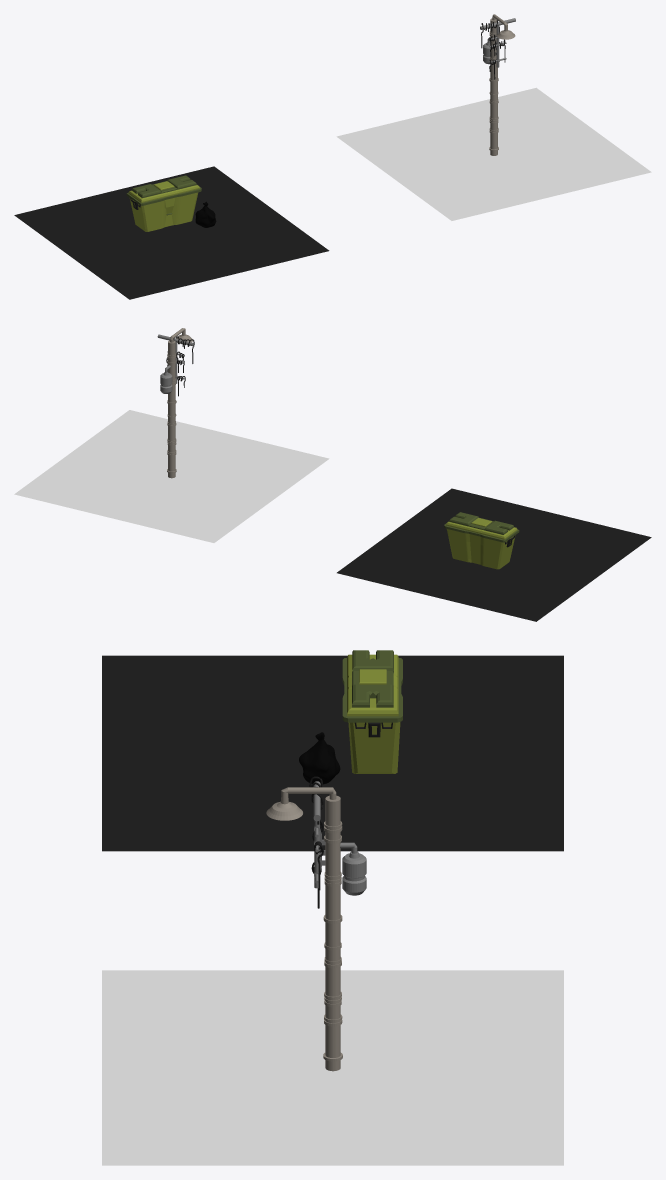
The model's file is Direk.fbx.
The picture shows the model from 3 angles, top to bottom: view 1: azimuth 30°, elevation 25°; view 2: azimuth 150°, elevation 25°; view 3: azimuth 270°, elevation 25°; orthographic projection. The views are drawn at different scales.
Parts seen in each view (by area): view 1: Plane, Plane.001, Cube, Cylinder, Cube.002, Cylinder.004, Cube.001; view 2: Plane, Plane.001, Cube, Cylinder, Cube.002, Cylinder.004, Cube.001; view 3: Plane, Plane.001, Cylinder, Cube.002, Cube, Cylinder.004, Cube.001, Icosphere.
Part boxes in pixels (x1,y1,x2,y2): Plane: (336, 87, 651, 220); Plane.001: (14, 166, 329, 299); Cube: (129, 192, 198, 231); Cylinder: (489, 14, 515, 155); Cube.002: (126, 175, 201, 215); Cylinder.004: (480, 18, 515, 67); Cube.001: (128, 181, 199, 202); Plane: (14, 410, 329, 542); Plane.001: (337, 488, 651, 621); Cube: (446, 529, 515, 569); Cylinder: (167, 328, 192, 478); Cube.002: (444, 512, 519, 542); Cylinder.004: (157, 334, 193, 393); Cube.001: (446, 518, 517, 539); Plane: (102, 970, 563, 1165); Plane.001: (102, 655, 563, 851); Cylinder: (266, 787, 342, 1071); Cube.002: (342, 650, 402, 722); Cube: (348, 722, 400, 773); Cylinder.004: (313, 781, 366, 895); Cube.001: (347, 654, 398, 716); Icosphere: (299, 732, 340, 784).
Size of the model in its own units: 2113 by 542 by 810.
